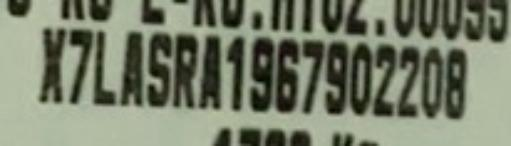letter: (37, 27, 66, 110), (245, 32, 274, 112), (141, 32, 170, 110), (196, 34, 225, 110), (91, 29, 118, 110), (297, 34, 324, 114), (273, 36, 302, 110), (218, 36, 247, 110), (116, 29, 143, 107), (442, 44, 469, 117), (70, 27, 94, 108), (174, 32, 198, 110), (349, 41, 373, 112), (372, 43, 396, 114), (324, 39, 346, 115), (396, 44, 418, 117), (419, 49, 441, 117)
